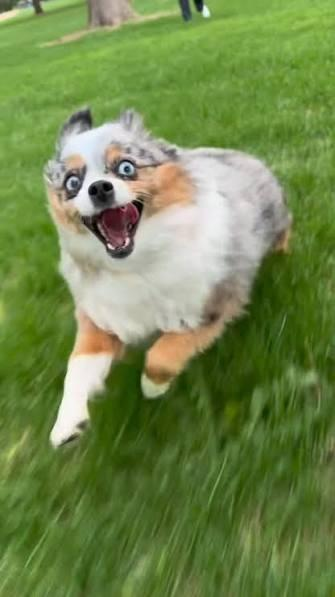adult_dog: (42, 108, 297, 447)
